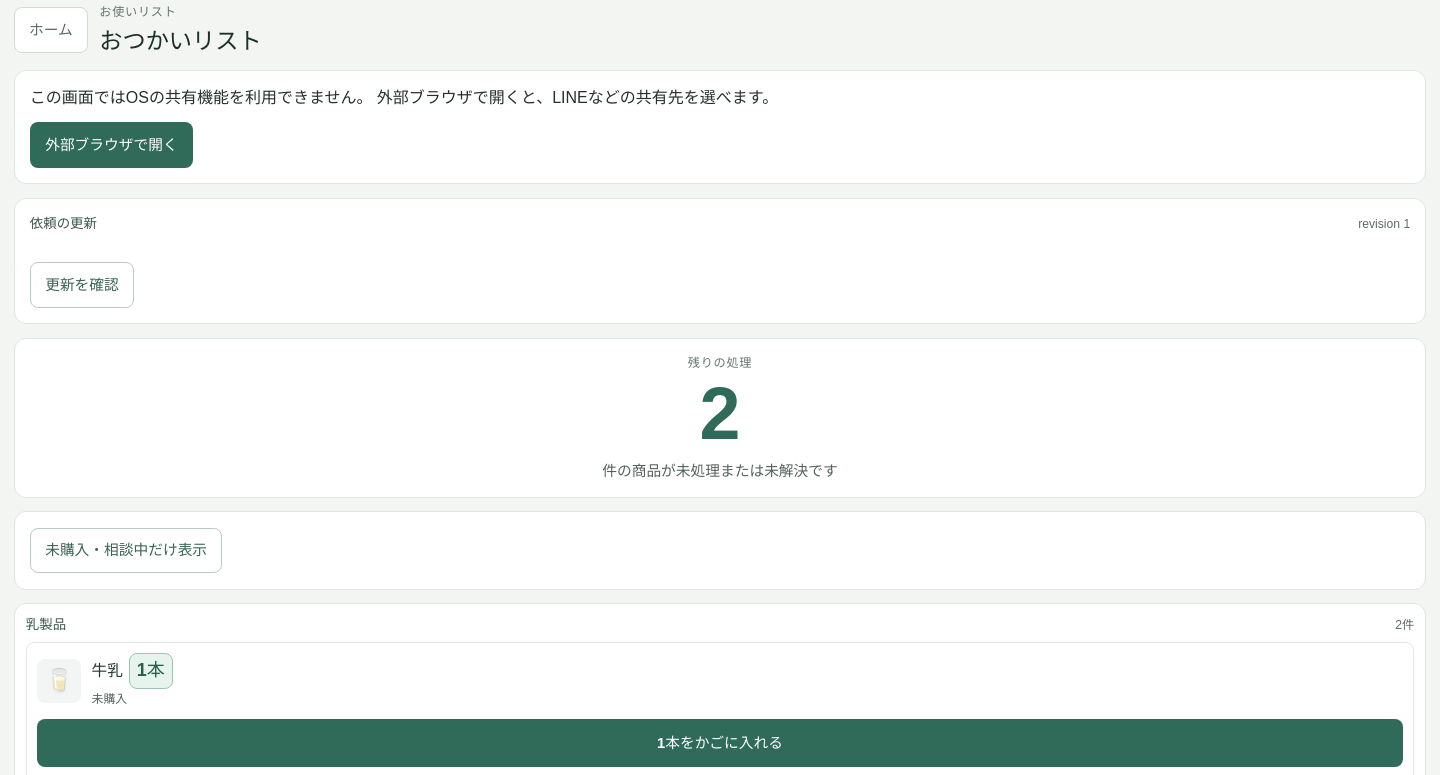
Test: ShoppingListPage live request synchronization › requires explicit cancellation handling for a cart item before completing other purchases
Click the button "1本をかごに入れる". click: (720, 743)
box: [37,719,1403,767]
(page scrolled)
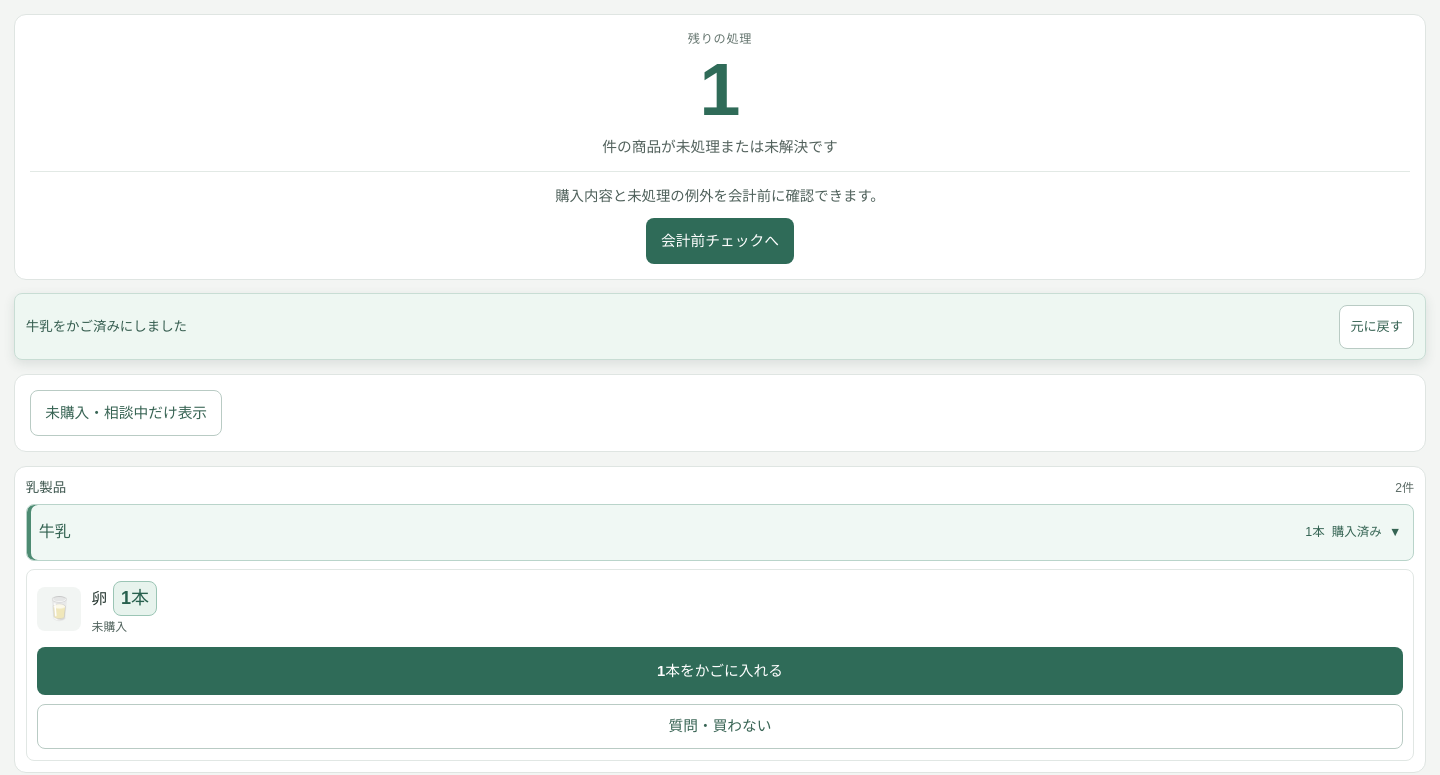
Click the button "1本をかごに入れる". click: (720, 671)
box: [37,647,1403,695]
(page scrolled)
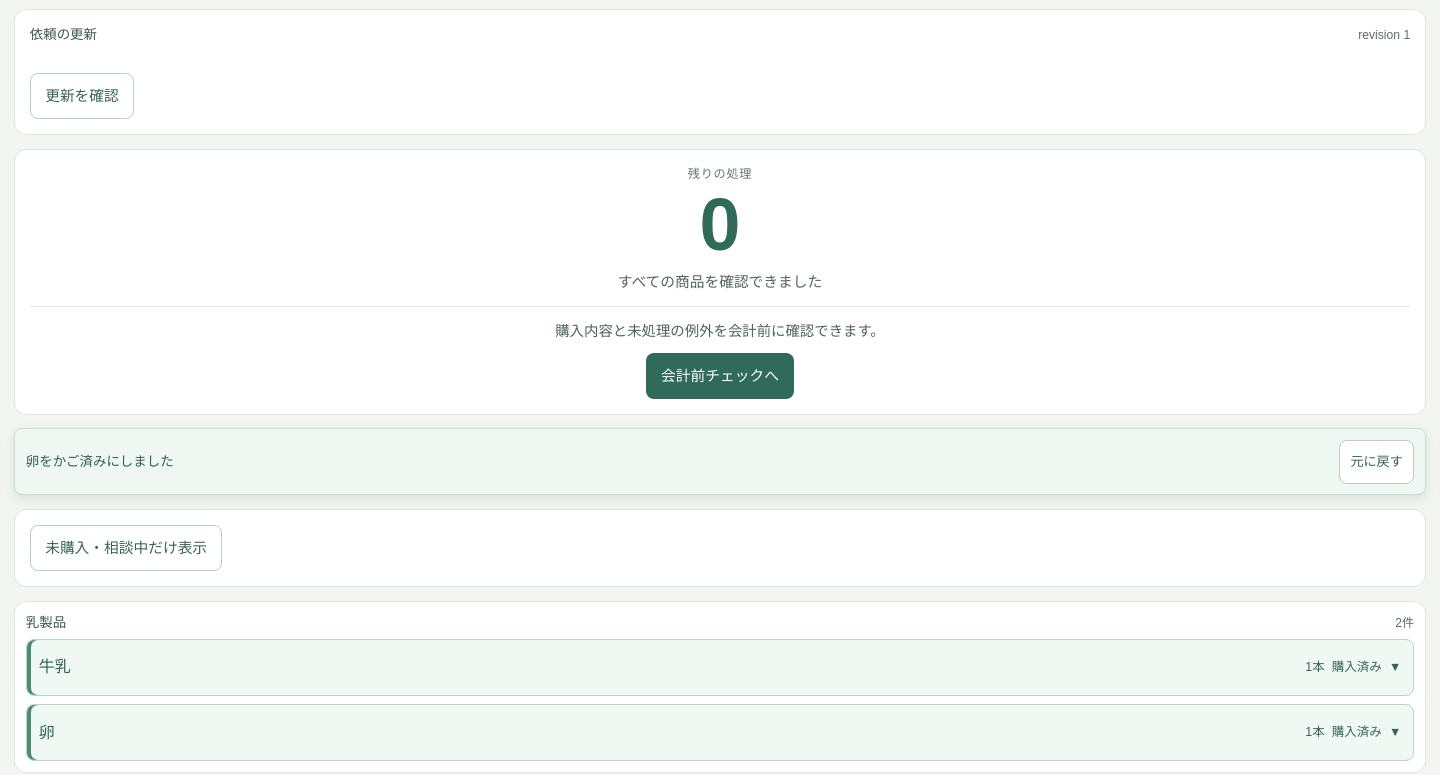
Click the button "会計前チェックへ". click: (720, 376)
box: [646,353,794,399]
(page scrolled)
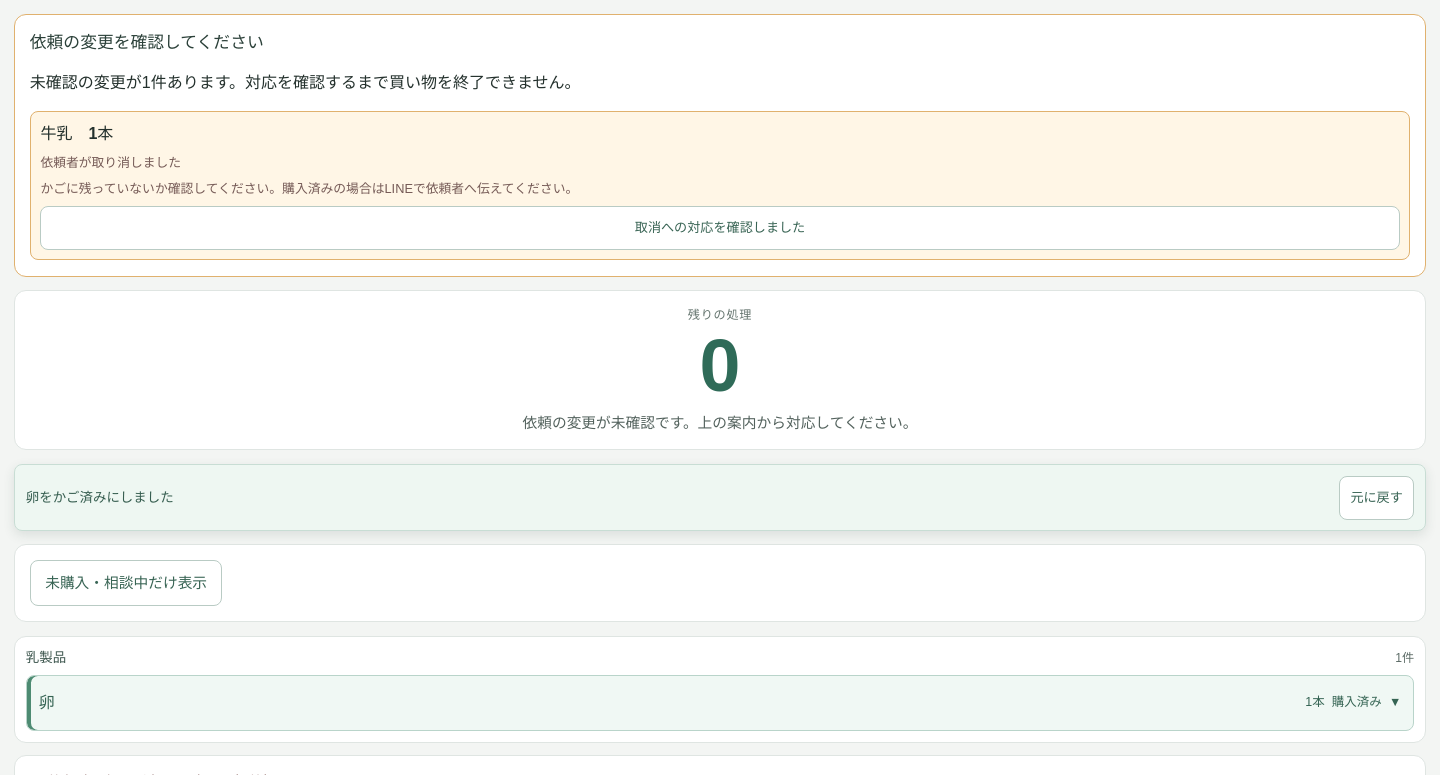
Click the button "取消への対応を確認しました". click: (720, 228)
box: [40,206,1400,250]
(page scrolled)
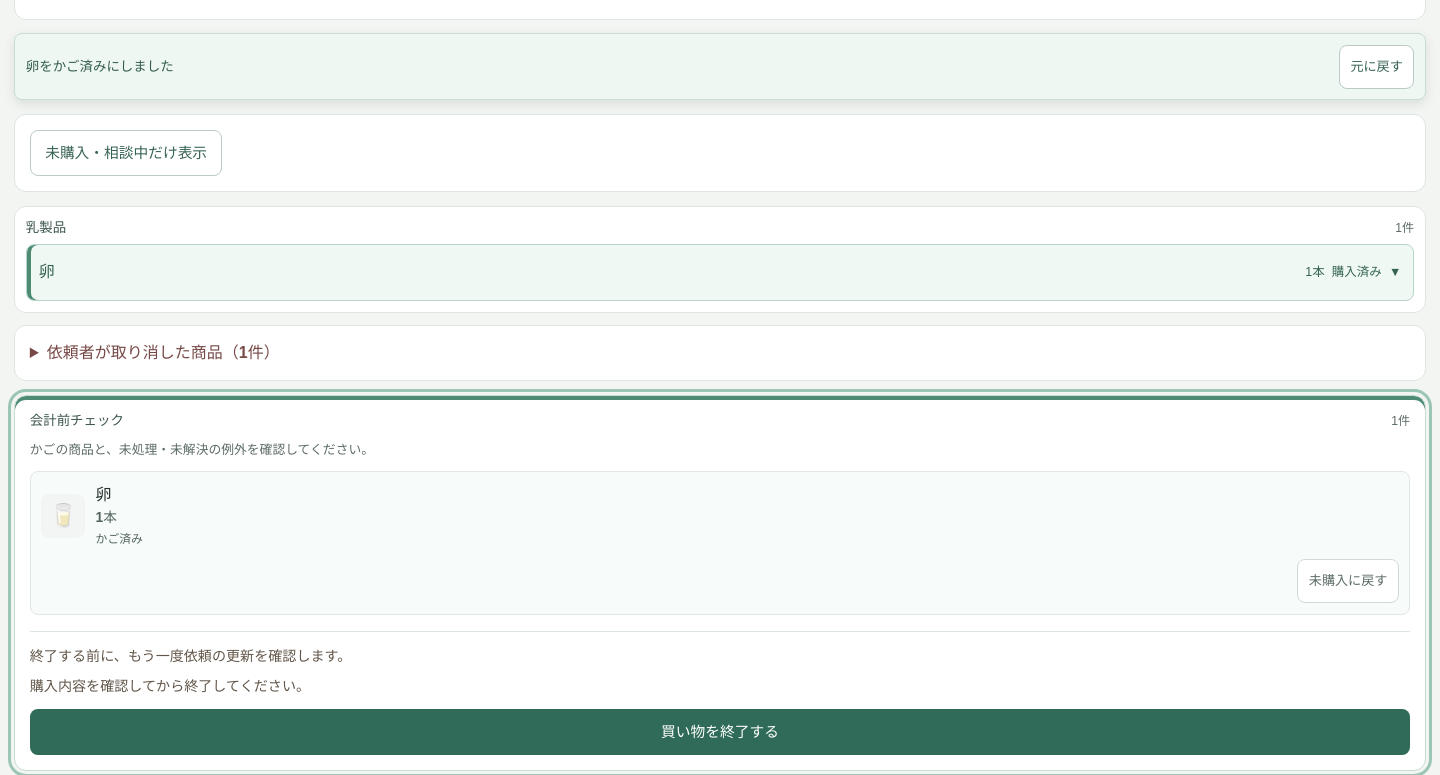
Click the button "買い物を終了する". click: (720, 732)
box: [30,709,1410,755]
(page scrolled)
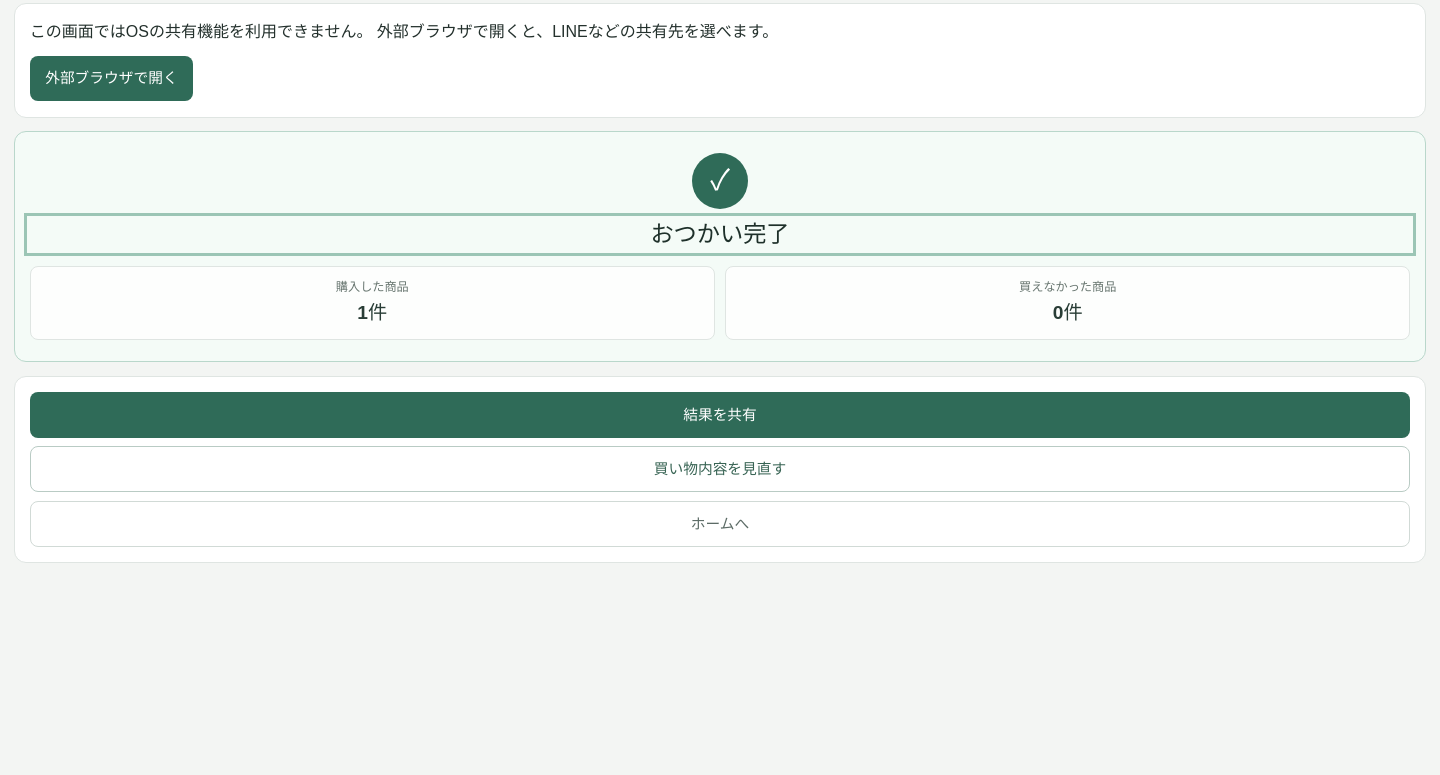
Check: the text "おつかい完了" is shown, box [650,221,790,247]
